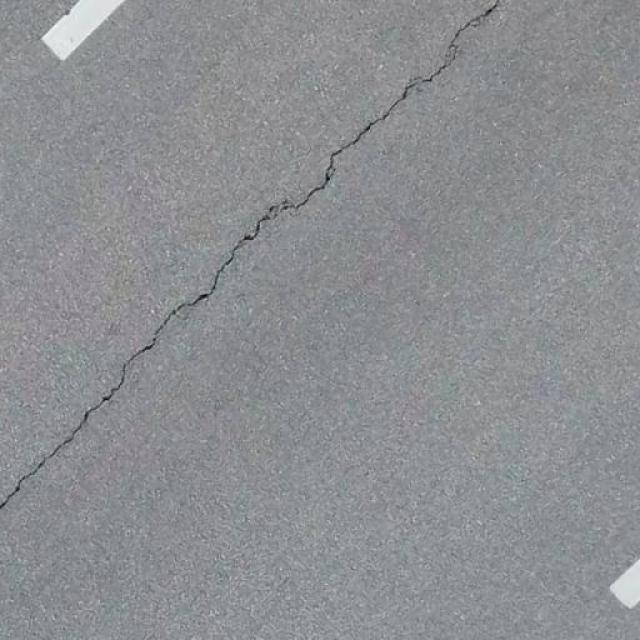Crack: (183, 23, 474, 290), (0, 277, 223, 508)
